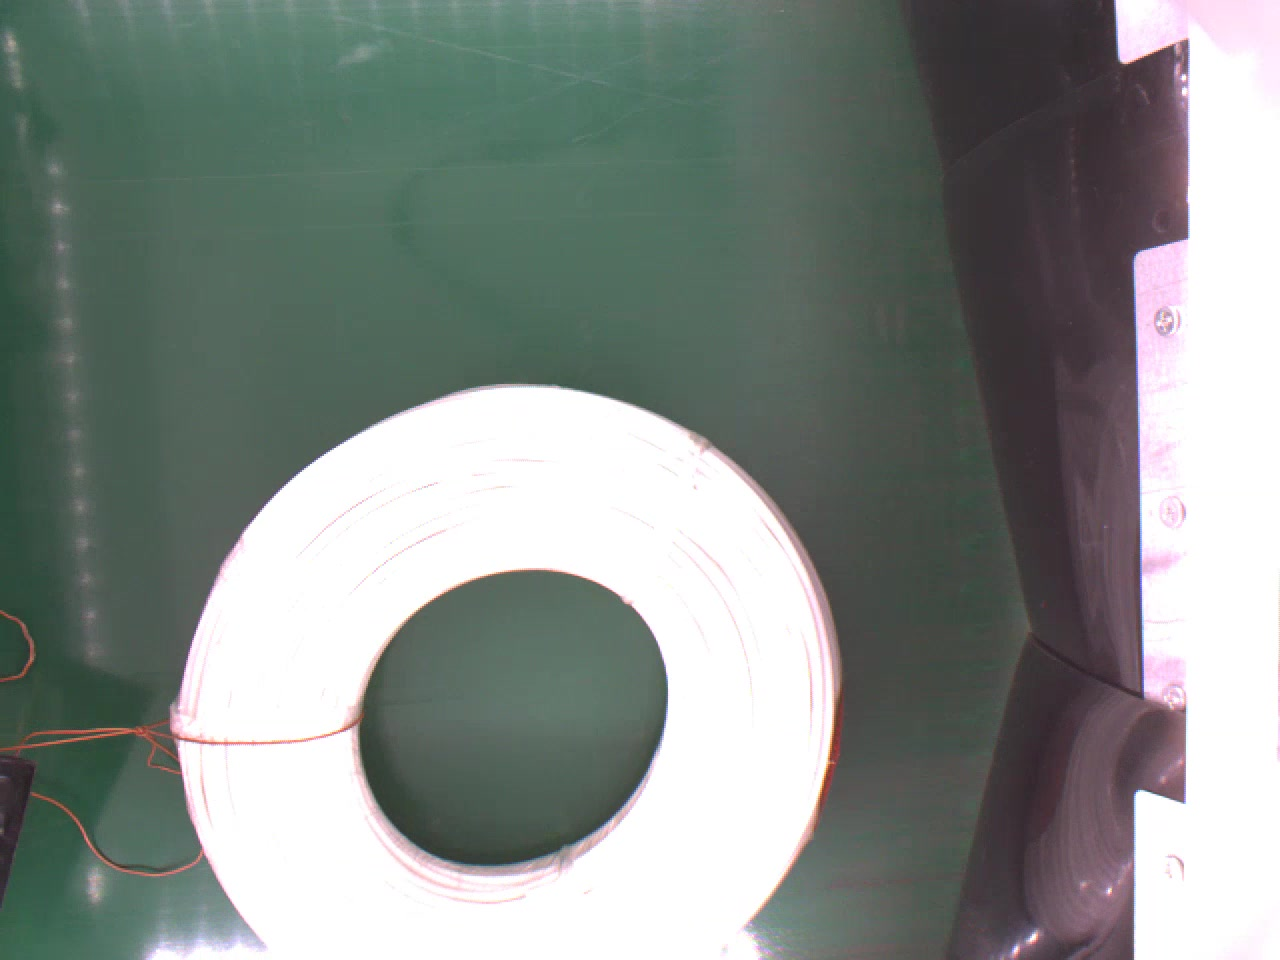white: (170, 385, 843, 960)
